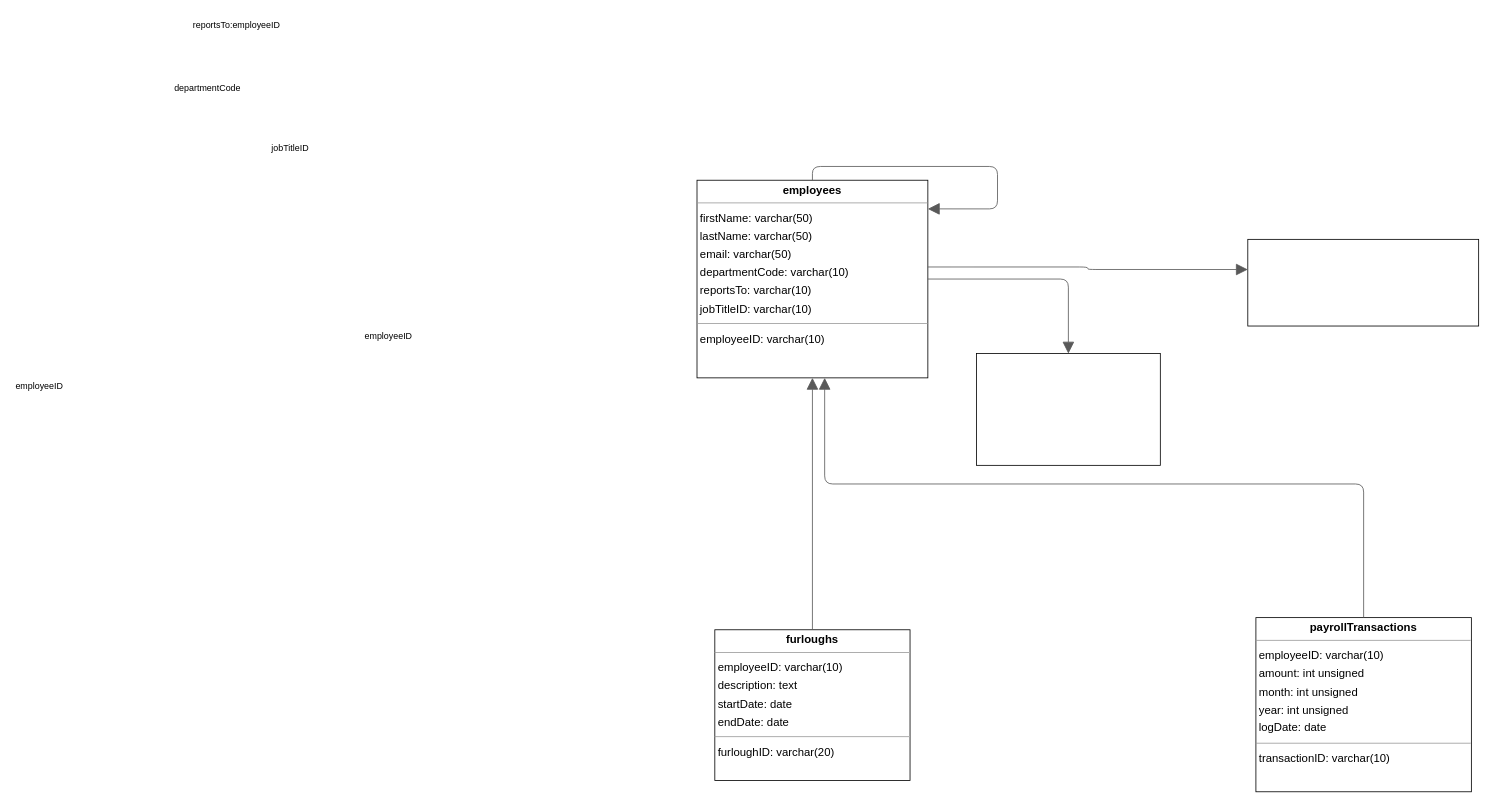
The diagram is 1493 pixels wide and 806 high, and some of its shapes have lost their labels. Here are the shapes that lost their labels. From the top down, the centre of each, then its label:
(x=1363, y=282): departments fullName: varchar(50) departmentCode: varchar(10)
(x=1068, y=409): jobs jobTitle: varchar(50) jobSalary: int unsigned jobTitleID: varchar(10)
